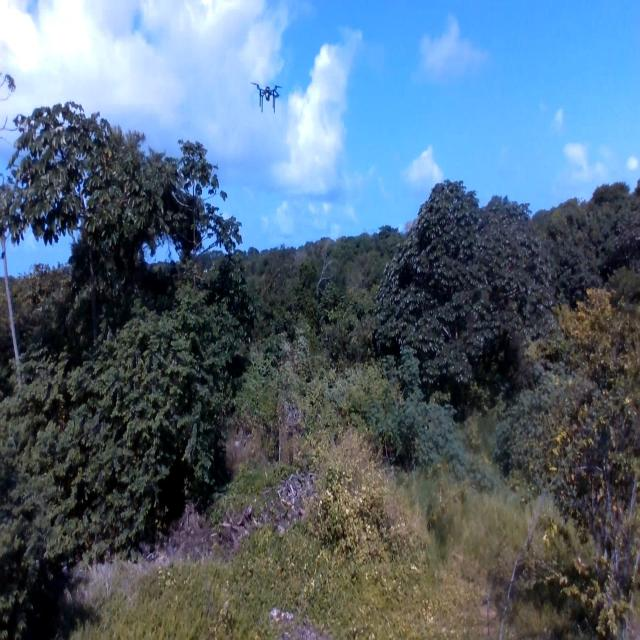-uav-: (248, 75, 282, 118)
